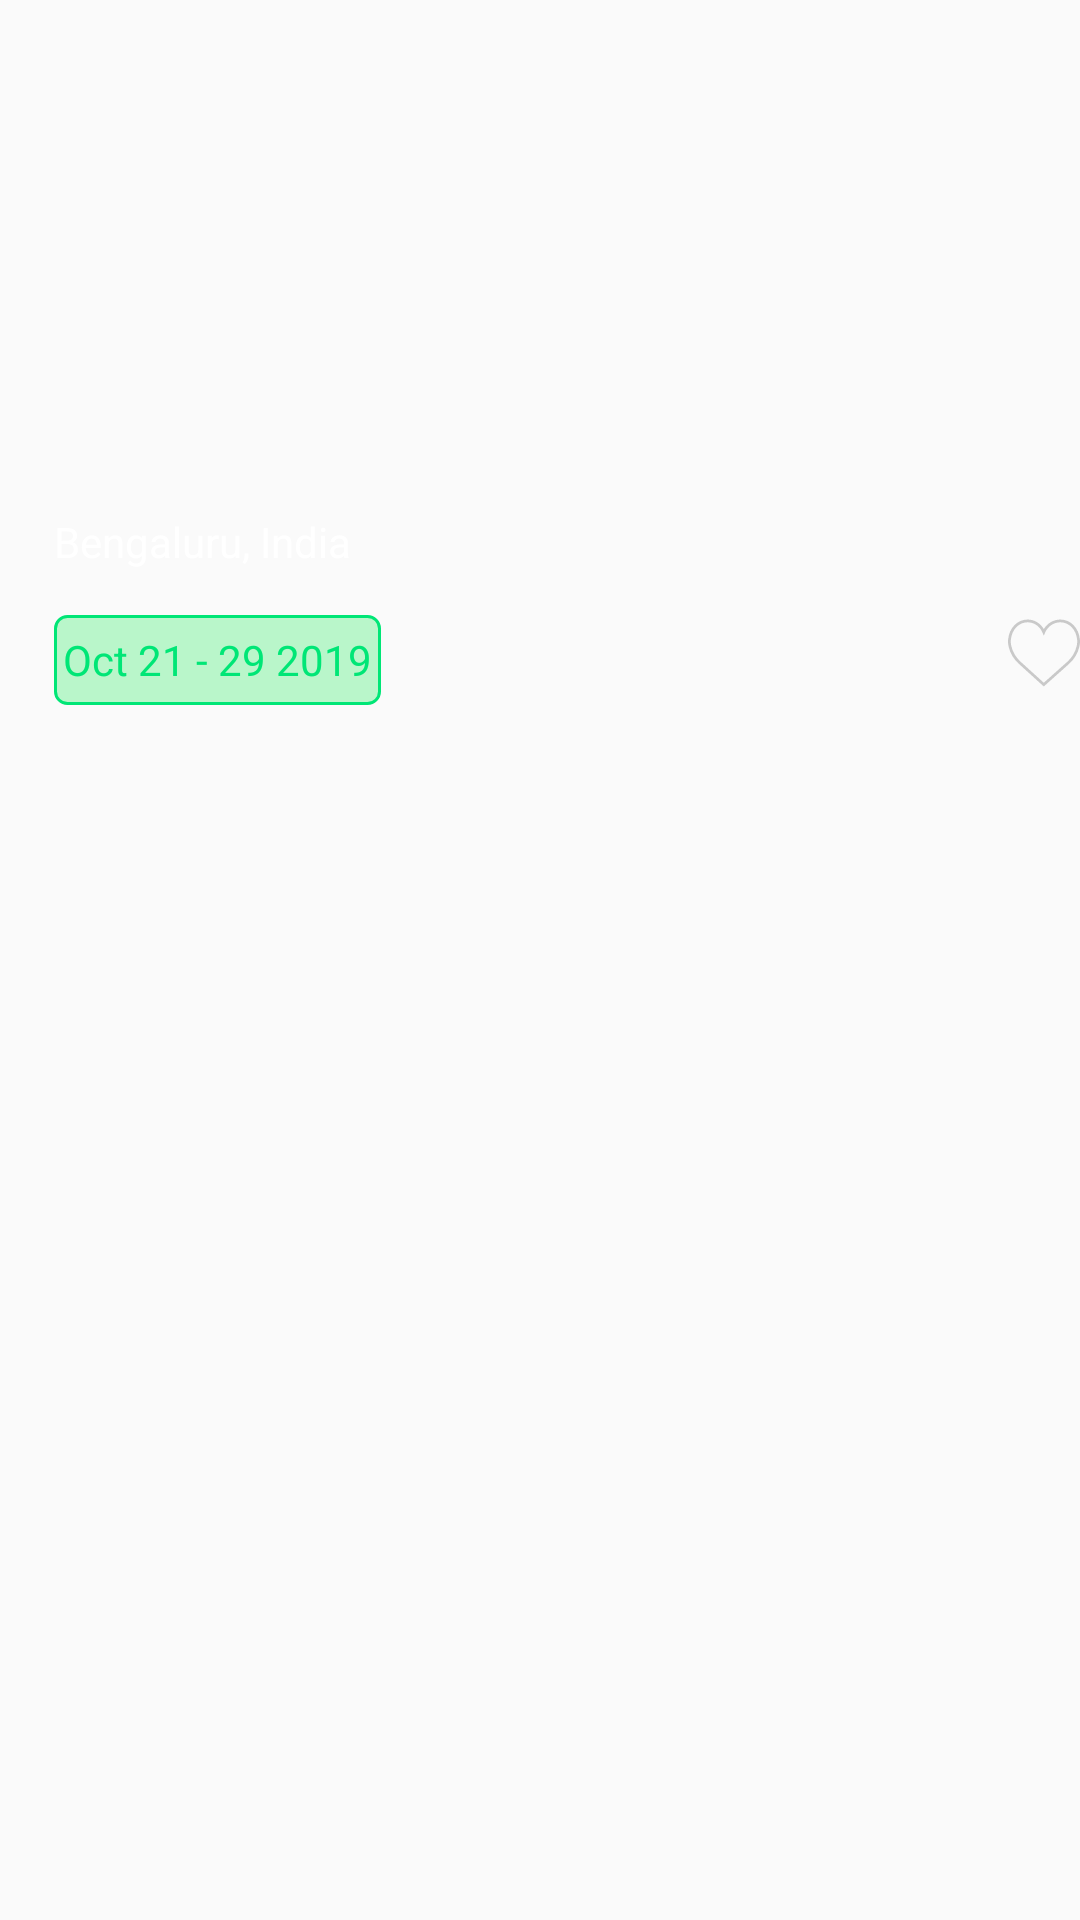

Locate icon controls on the screen. Image size 1080x1920, boxes as region(x1, y1, x2, y2).
un like: region(1008, 619, 1080, 686)
